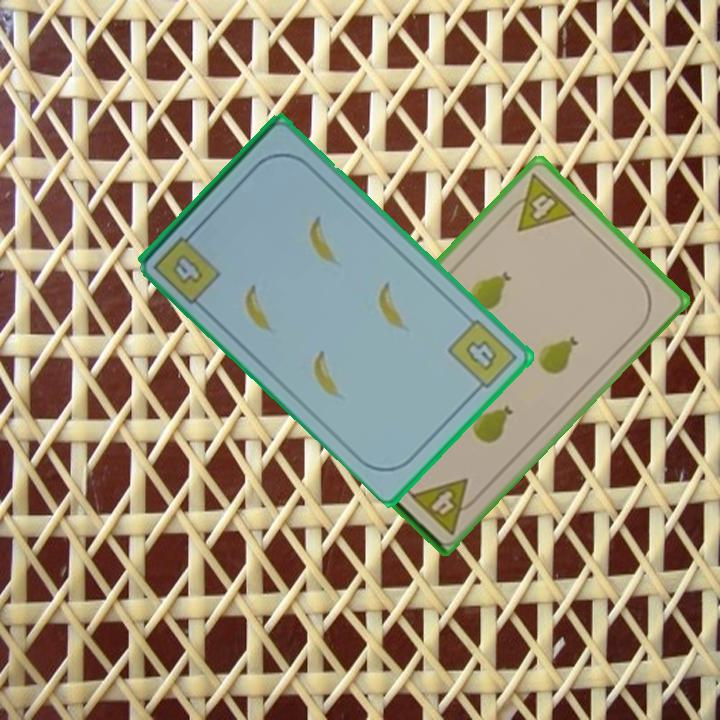4b: (444, 314, 520, 397), (149, 224, 224, 307)
4p: (499, 170, 580, 235), (405, 474, 484, 537)
